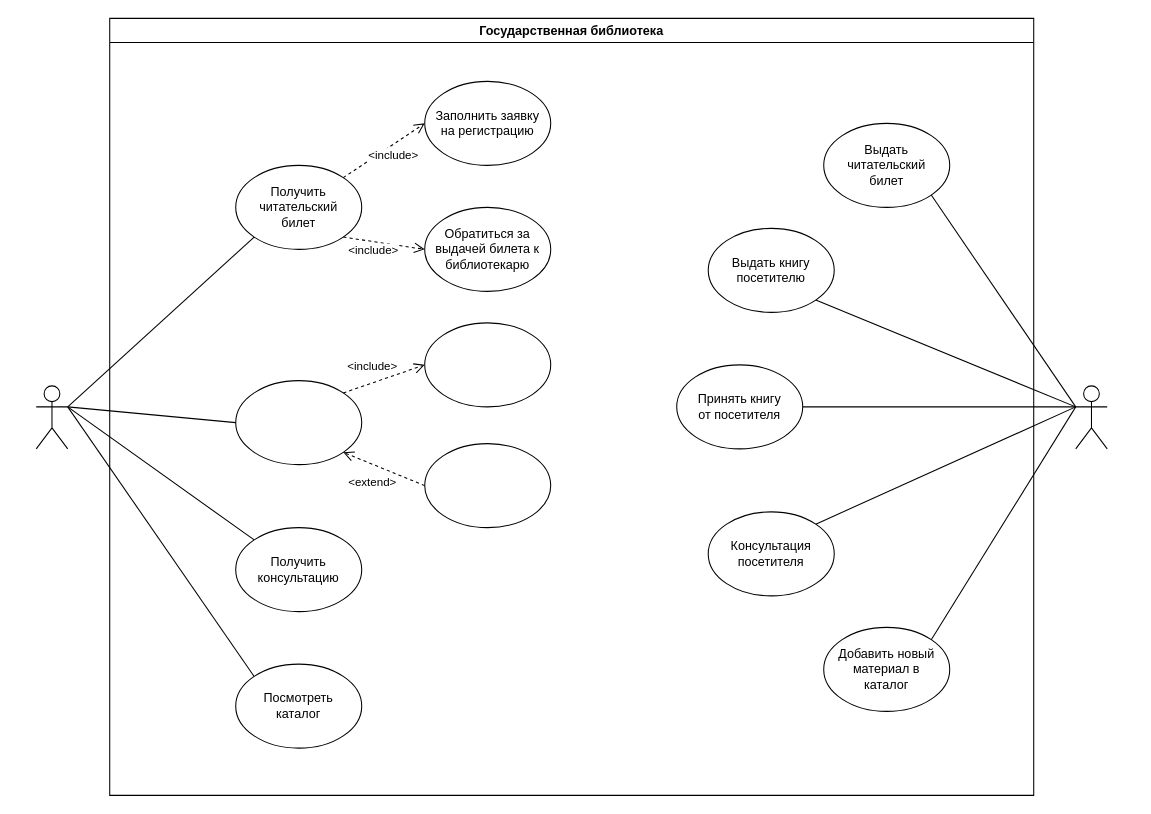
The diagram is 1151 pixels wide and 814 high, and some of its shapes have lost their labels. Each missing label, with the centre of its shape:
Библиотекарь: the point at 1091,417
Вернуть книгу: the point at 487,364
Взять книгу во временное пользование: the point at 298,422
Посетитель: the point at 51,417
Продлить срок использования: the point at 487,485
